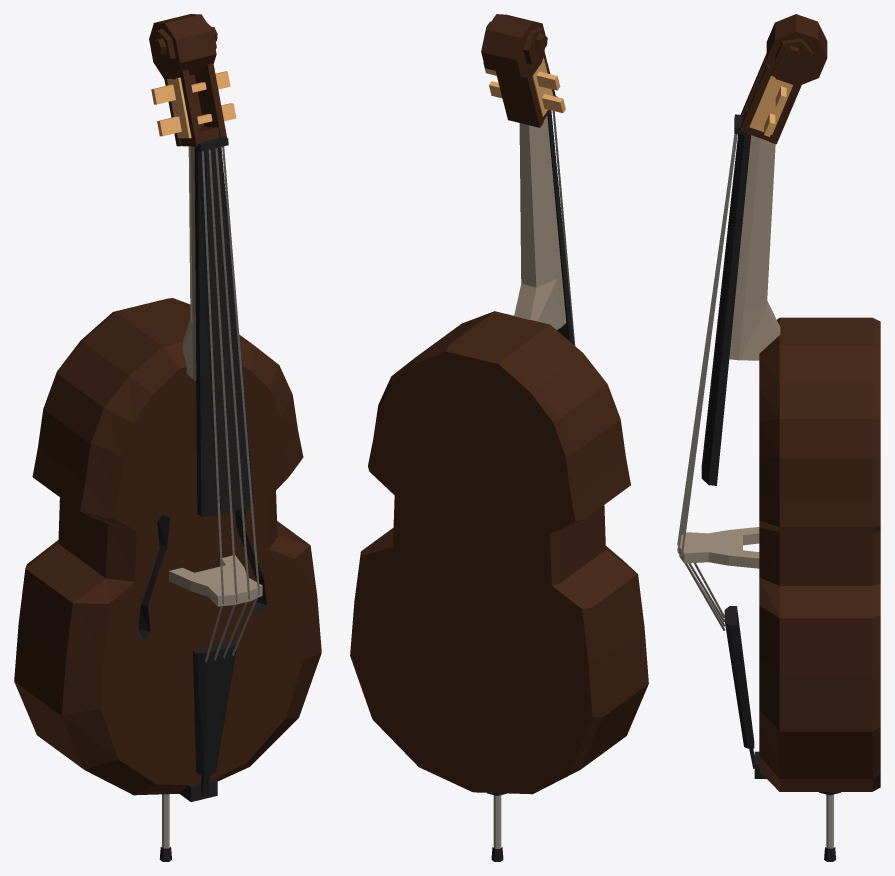
File: double-bass-5c7959.glb
3 views of the same model, side by side, from view 1: azimuth 30°, elevation 25°; view 2: azimuth 150°, elevation 25°; view 3: azimuth 270°, elevation 25° (orthographic). The views are drawn at different scales.
Parts seen in each view (by area): view 1: double-bass-body, double-bass-metal; view 2: double-bass-body, double-bass-metal; view 3: double-bass-body, double-bass-metal.
Part boxes in pixels (left/top/right/bottom): double-bass-body: left=14, top=14, right=321, bottom=861; double-bass-metal: left=151, top=71, right=259, bottom=848; double-bass-body: left=350, top=14, right=648, bottom=861; double-bass-metal: left=483, top=58, right=575, bottom=848; double-bass-body: left=679, top=14, right=880, bottom=861; double-bass-metal: left=677, top=75, right=833, bottom=848.
Size of the model in its own units: 0.582 by 1.82 by 0.402.
